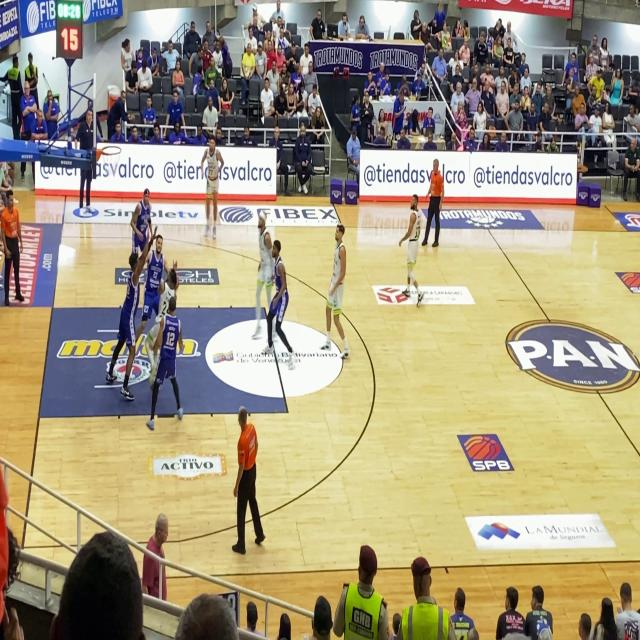referee: (222, 394, 268, 568), (416, 141, 454, 272), (0, 184, 34, 306)
team1: (323, 218, 352, 362), (394, 186, 426, 306), (250, 202, 275, 351), (198, 127, 222, 240), (153, 254, 177, 335)
team2: (118, 249, 140, 413), (267, 234, 292, 357), (146, 224, 167, 362), (160, 296, 180, 431), (137, 172, 155, 261)
ubasket: (100, 141, 125, 165)
